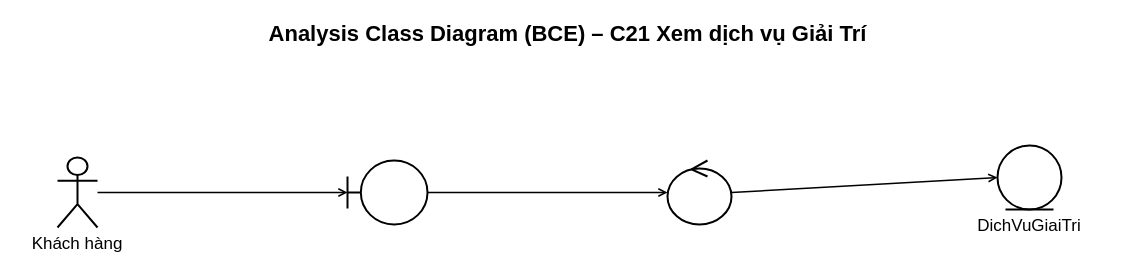
The diagram is 1134 pixels wide and 271 high, and some of its shapes have lost their labels. The shapes that lost their labels are listed below. From the top down, each one's centre as x and y in pixels, then its label:
the point at 387,192: XemGiaiTriPage
the point at 699,192: XemGiaiTriController
